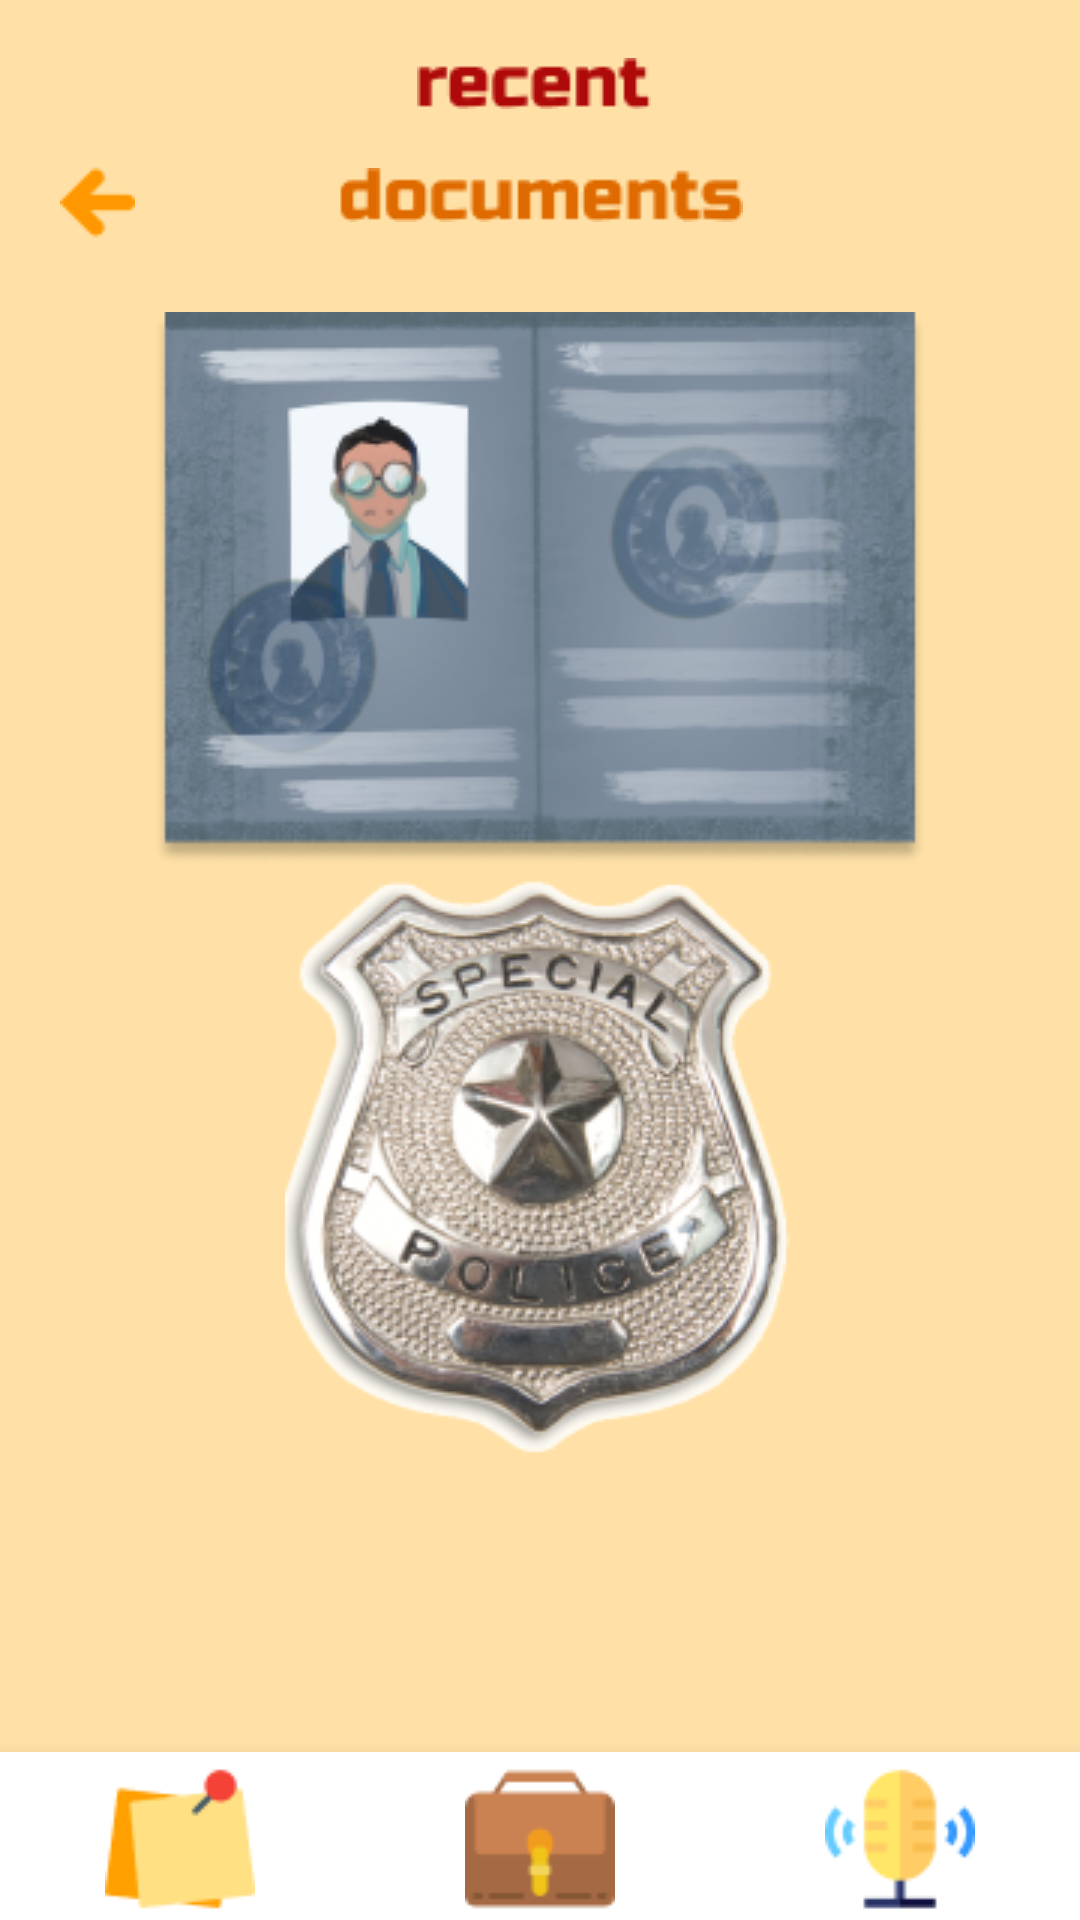

Named icons in this screenshot (1080w x 1920h) and their bounding boxes, (x1, y1, x2, y2):
back: (60, 167, 135, 238)
